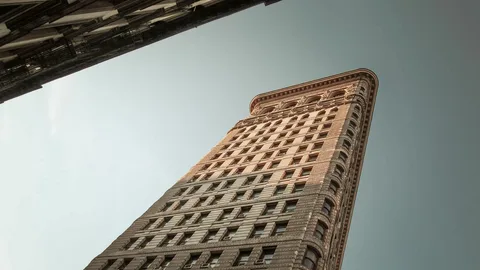high_rise_building: (231, 73, 368, 266)
